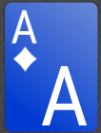Diamond: (13, 47, 38, 72)
